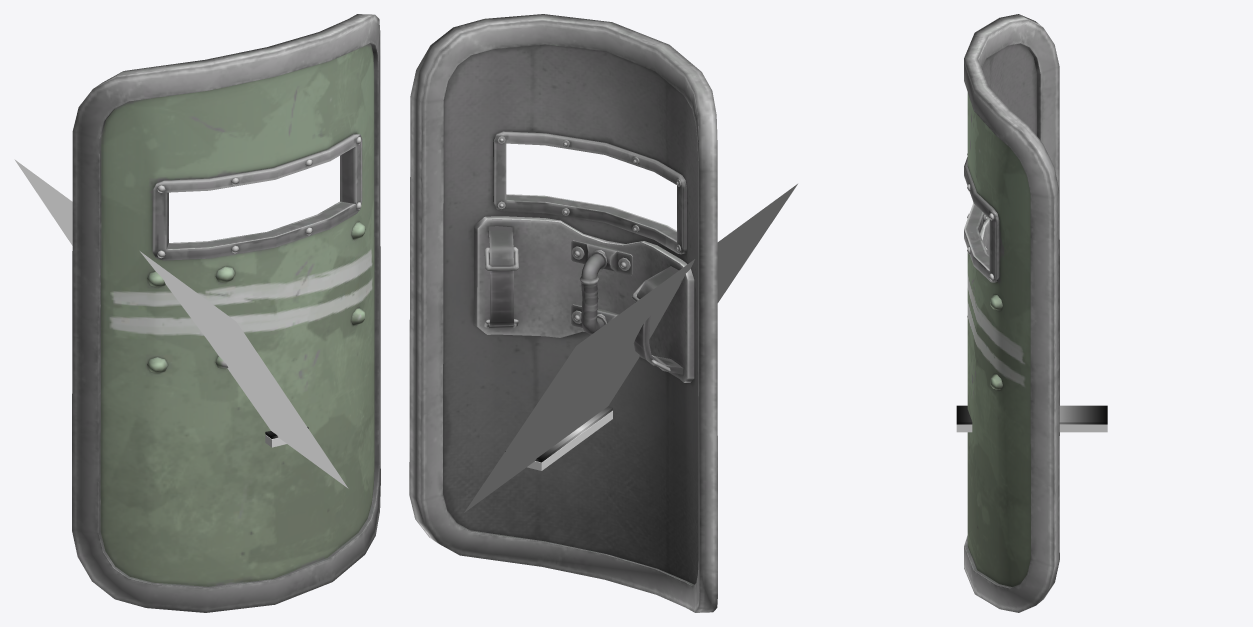
Rendered from RiotShield.glb.
The picture shows the model from 3 angles, left to right: view 1: azimuth 30°, elevation 25°; view 2: azimuth 150°, elevation 25°; view 3: azimuth 270°, elevation 25°; orthographic projection. The views are drawn at different scales.
Parts seen in each view (by area): view 1: RiotShieldMesh, LightQuad; view 2: RiotShieldMesh, LightQuad, Cube (1), Cube; view 3: RiotShieldMesh, Cube, Cube (1).
Part boxes in pixels (left/top/right/bottom): RiotShieldMesh: left=72, top=14, right=380, bottom=612; LightQuad: left=14, top=159, right=348, bottom=488; RiotShieldMesh: left=409, top=14, right=717, bottom=612; LightQuad: left=464, top=184, right=797, bottom=512; Cube (1): left=527, top=410, right=612, bottom=470; Cube: left=505, top=406, right=612, bottom=462; RiotShieldMesh: left=964, top=14, right=1059, bottom=612; Cube: left=956, top=405, right=1107, bottom=424; Cube (1): left=956, top=424, right=1107, bottom=432.
Size of the model in its own units: 0.7386 by 1.26 by 0.9217.
5 materials, 2 textured.
